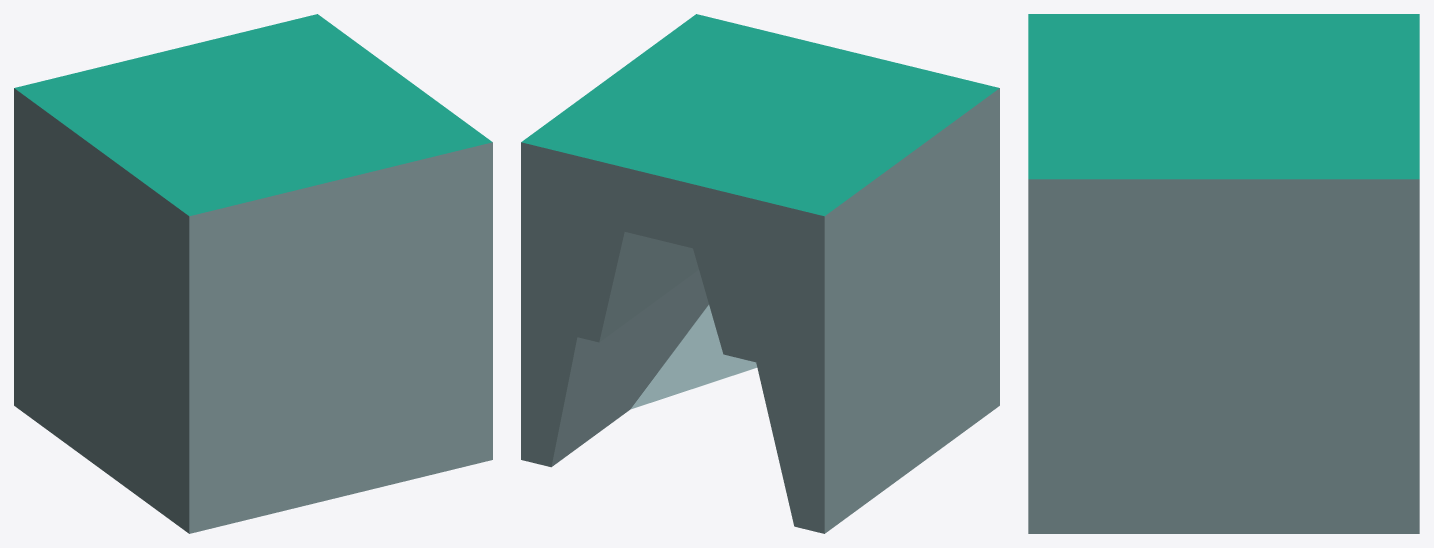
Rendered from cliff_blockCave_stone.glb.
3 renders of one model, left to right at view 1: azimuth 30°, elevation 25°; view 2: azimuth 150°, elevation 25°; view 3: azimuth 270°, elevation 25°, orthographic. The views are drawn at different scales.
Visible parts, largest first — view 1: cliff_blockCave_stone; view 2: cliff_blockCave_stone; view 3: cliff_blockCave_stone.
Part boxes in pixels (x1,y1,x2,y2): cliff_blockCave_stone: [14, 14, 492, 533]; cliff_blockCave_stone: [521, 14, 999, 533]; cliff_blockCave_stone: [1028, 14, 1419, 533].
Size of the model in its own units: 1.16 by 1.16 by 1.16.
